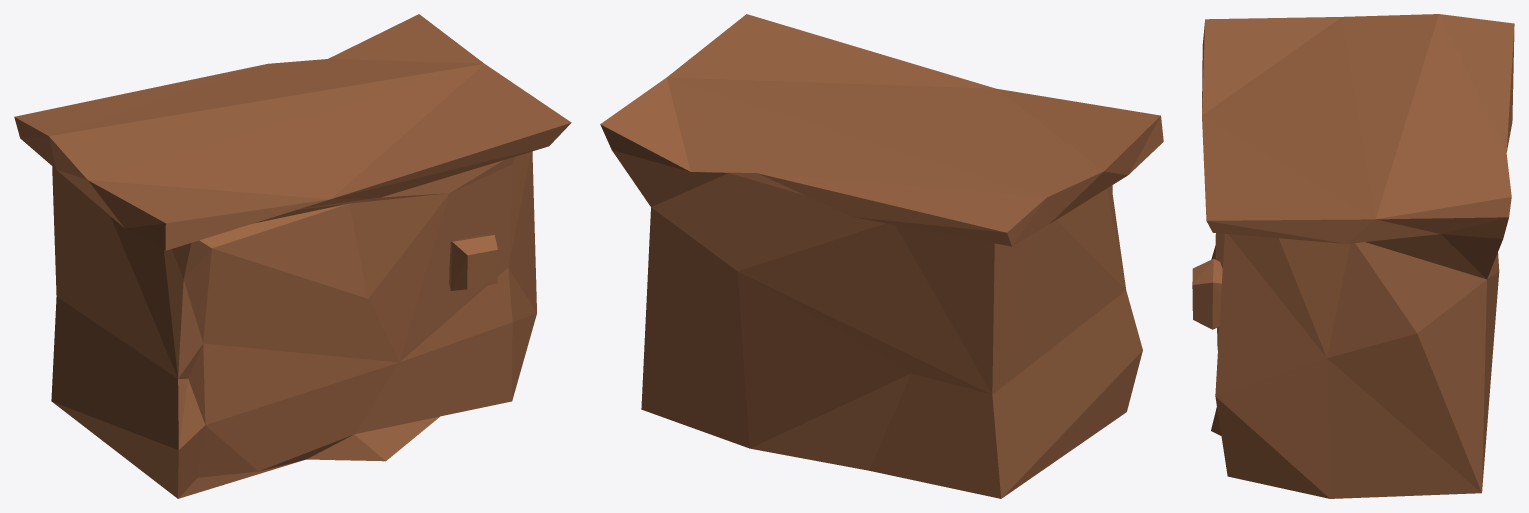
File: Cupboard00.fbx
3 views of the same model, side by side, from view 1: azimuth 30°, elevation 25°; view 2: azimuth 150°, elevation 25°; view 3: azimuth 270°, elevation 25° (orthographic). The views are drawn at different scales.
Visible parts, largest first — view 1: Cupboard00; view 2: Cupboard00; view 3: Cupboard00.
Part boxes in pixels (x1,y1,x2,y2): Cupboard00: [14, 14, 571, 498]; Cupboard00: [600, 14, 1163, 498]; Cupboard00: [1192, 14, 1514, 498].
Bounding box in the file's own units: 84.35 × 57.57 × 55.17.
